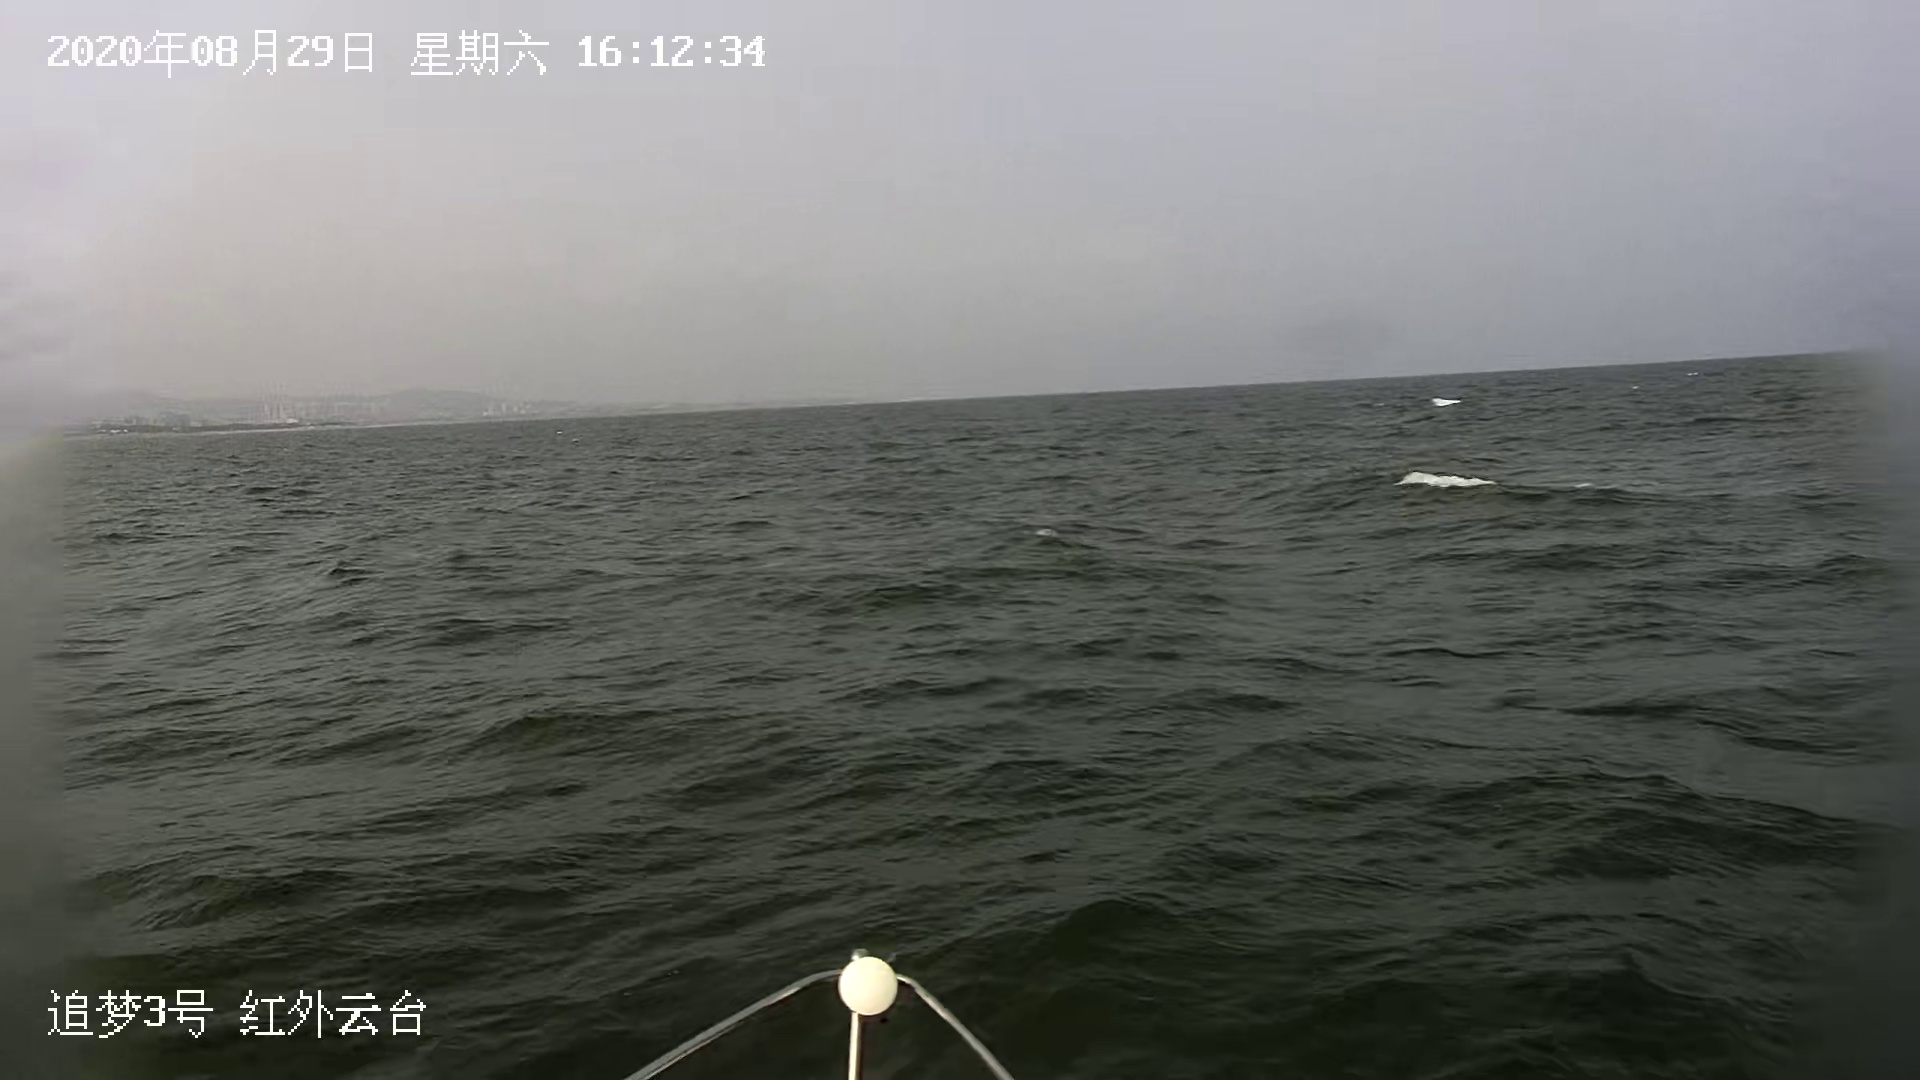coast: (34, 382, 680, 443)
